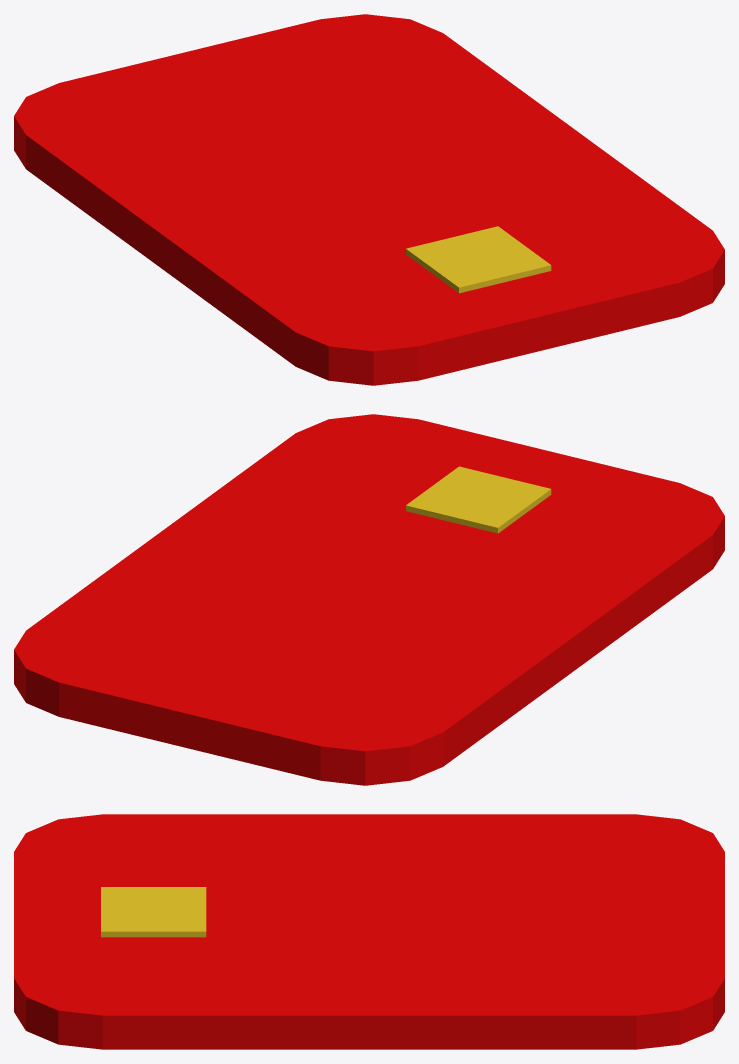
The model's file is SM_Prop_CardKey_01.fbx.
3 views of the same model, one above another, from view 1: azimuth 30°, elevation 25°; view 2: azimuth 150°, elevation 25°; view 3: azimuth 270°, elevation 25° (orthographic).
Visible parts, largest first — view 1: Cube; view 2: Cube; view 3: Cube.
Part boxes in pixels (left/top/right/bottom): Cube: left=14, top=14, right=724, bottom=385; Cube: left=14, top=414, right=724, bottom=785; Cube: left=14, top=814, right=724, bottom=1049.
Bounding box in the file's own units: 268 × 24.65 × 400.
